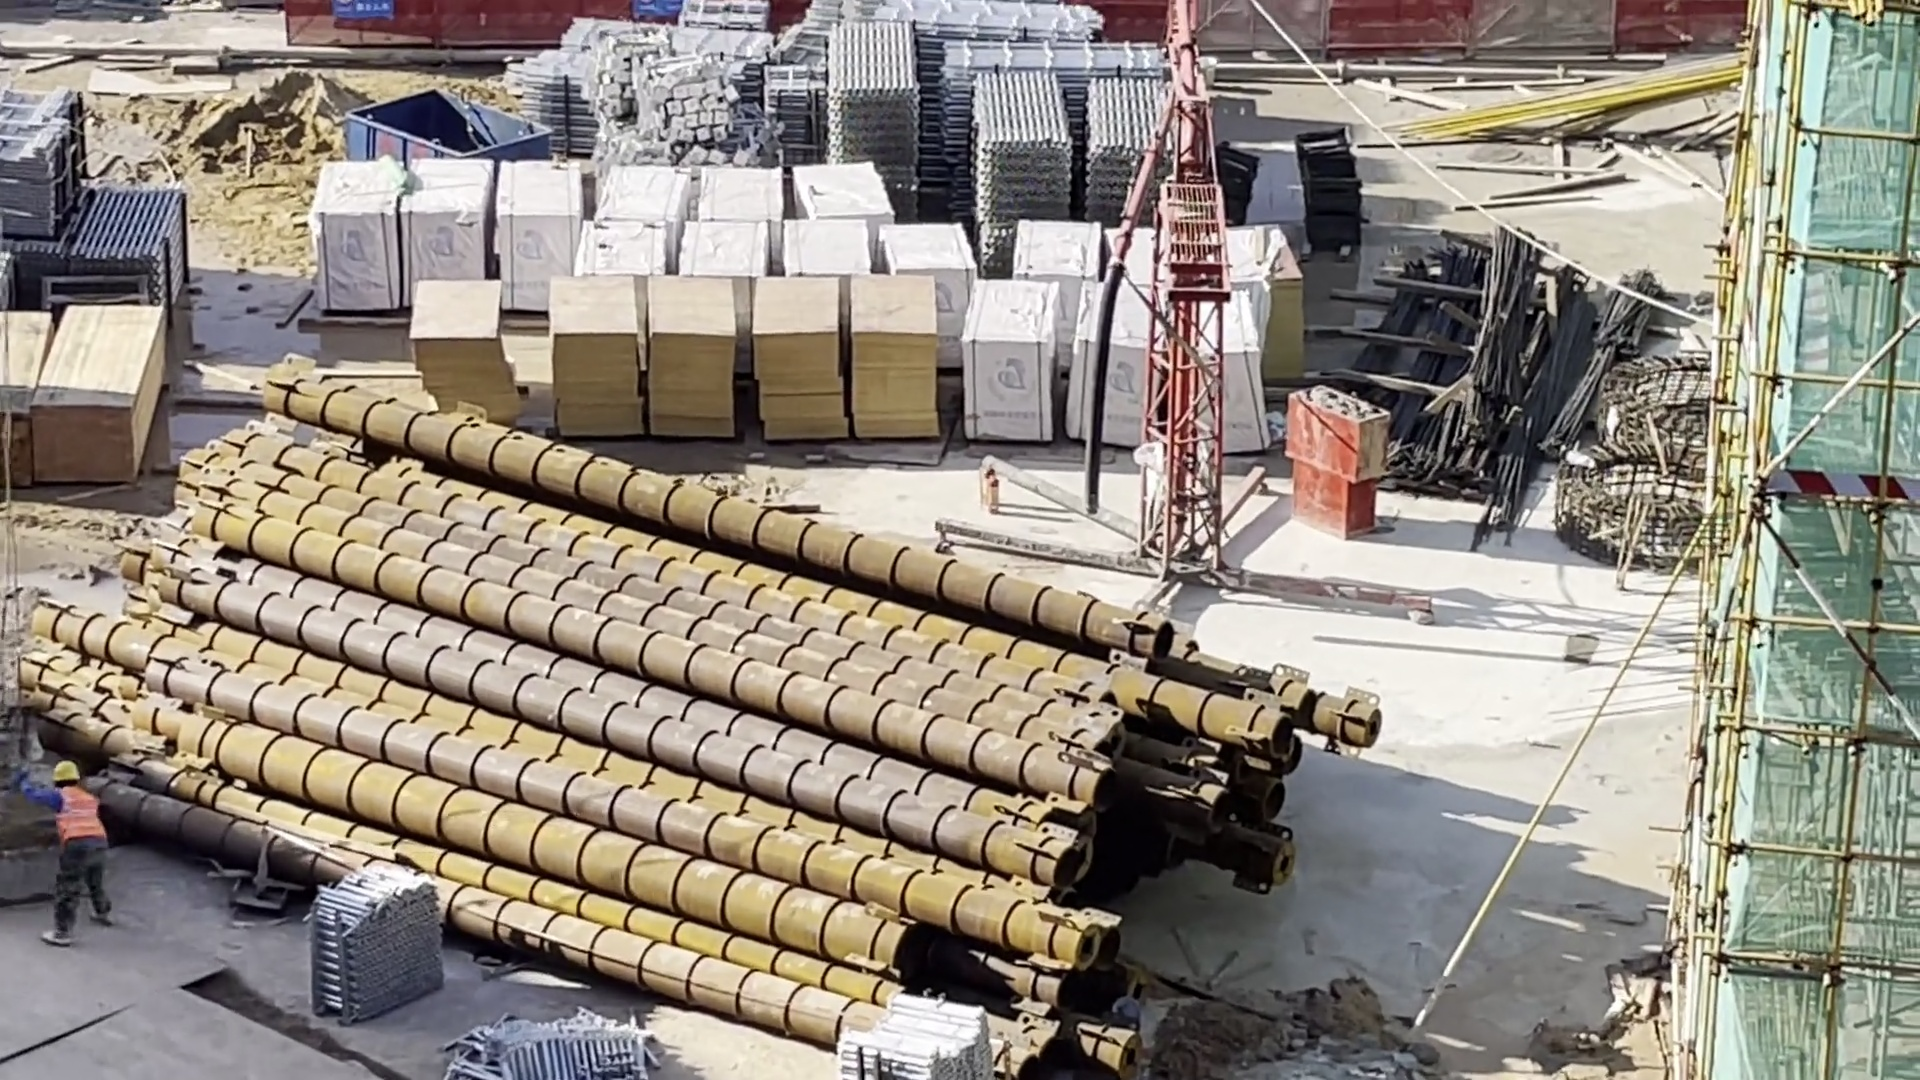board: (843, 234, 951, 454), (523, 267, 651, 446), (741, 253, 855, 452), (404, 271, 537, 427), (641, 258, 743, 457)
helmet: (45, 756, 81, 786)
hopper: (329, 87, 559, 158)
person: (14, 757, 129, 957)
scaffold: (296, 868, 446, 1030), (74, 162, 204, 324), (967, 76, 1078, 257), (828, 19, 933, 198), (832, 991, 1002, 1080), (1085, 82, 1178, 239)
vest: (40, 786, 118, 854)
